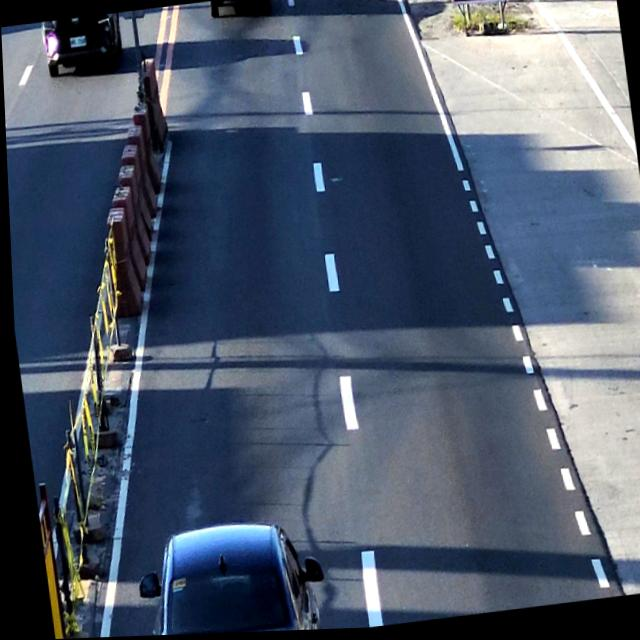Car: (142, 520, 315, 636)
